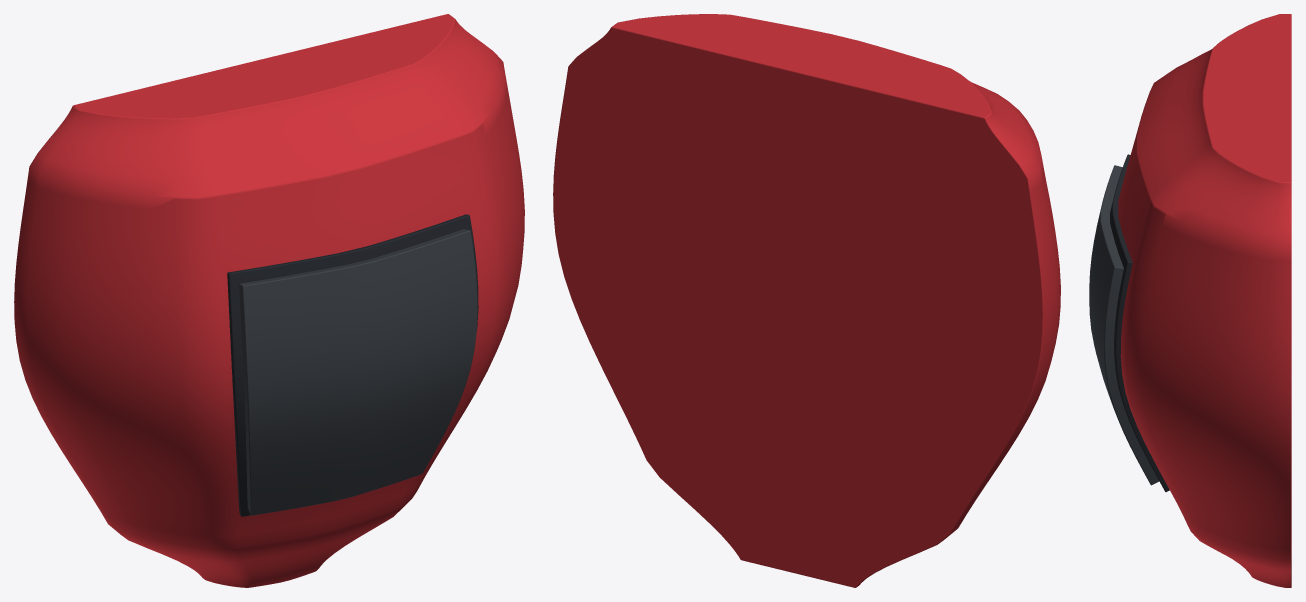
File: UpperArmBack_Set01_Ironclad.fbx
3 views of the same model, side by side, from view 1: azimuth 30°, elevation 25°; view 2: azimuth 150°, elevation 25°; view 3: azimuth 270°, elevation 25° (orthographic). The views are drawn at different scales.
Visible parts, largest first — view 1: UpperArmBack_Set01_Ironclad; view 2: UpperArmBack_Set01_Ironclad; view 3: UpperArmBack_Set01_Ironclad.
Boxes of the visible parts, x1,y1,x2,y2 form: UpperArmBack_Set01_Ironclad: (14, 14, 524, 587); UpperArmBack_Set01_Ironclad: (553, 14, 1060, 587); UpperArmBack_Set01_Ironclad: (1089, 14, 1291, 587).
Size of the model in its own units: 0.3479 by 0.34 by 0.1343.
